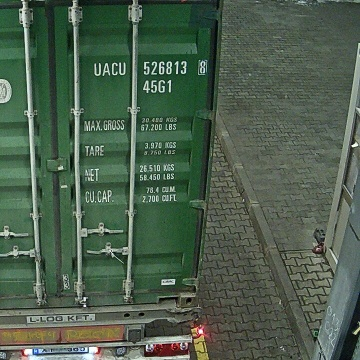serial_id: (94, 61, 205, 75)
